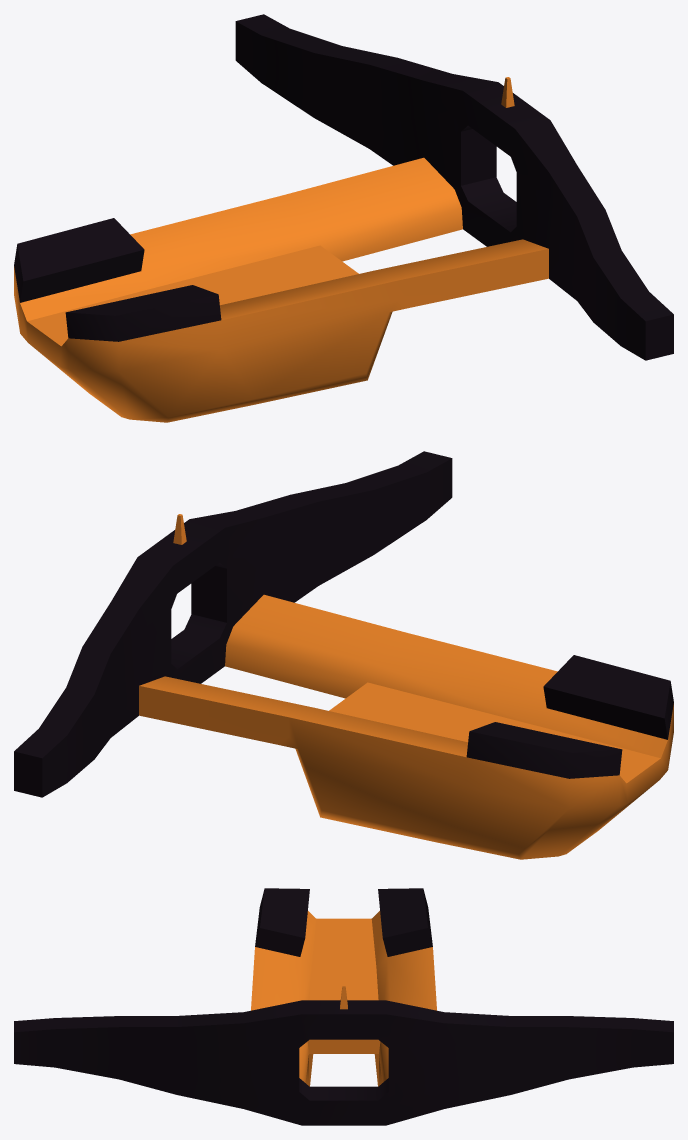
Rendered from bow.FBX.
3 views of the same model, one above another, from view 1: azimuth 30°, elevation 25°; view 2: azimuth 150°, elevation 25°; view 3: azimuth 270°, elevation 25° (orthographic). The views are drawn at different scales.
Parts seen in each view (by area): view 1: Box23238; view 2: Box23238; view 3: Box23238.
Part boxes in pixels (<box>): Box23238: <box>14,14,673,422</box>; Box23238: <box>14,451,673,859</box>; Box23238: <box>14,888,673,1125</box>.
Size of the model in its own units: 19.46 by 28.75 by 8.92.
